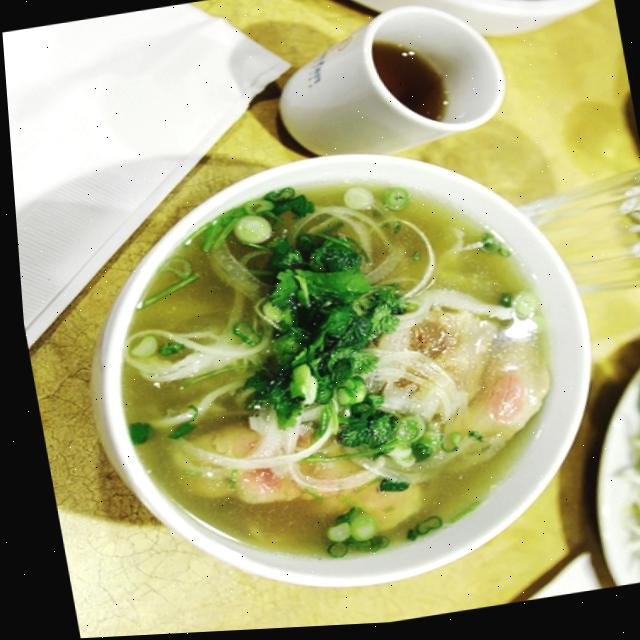面条主食: (102, 166, 569, 593)
